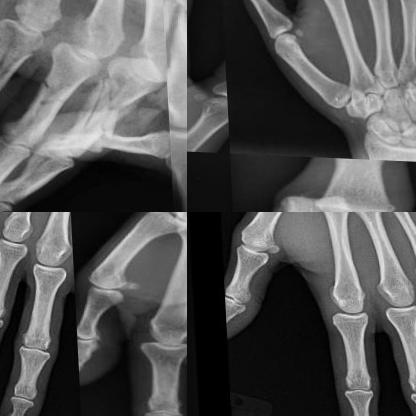fracture: (272, 169, 405, 211), (75, 72, 131, 141), (32, 72, 72, 110), (140, 124, 169, 175)
